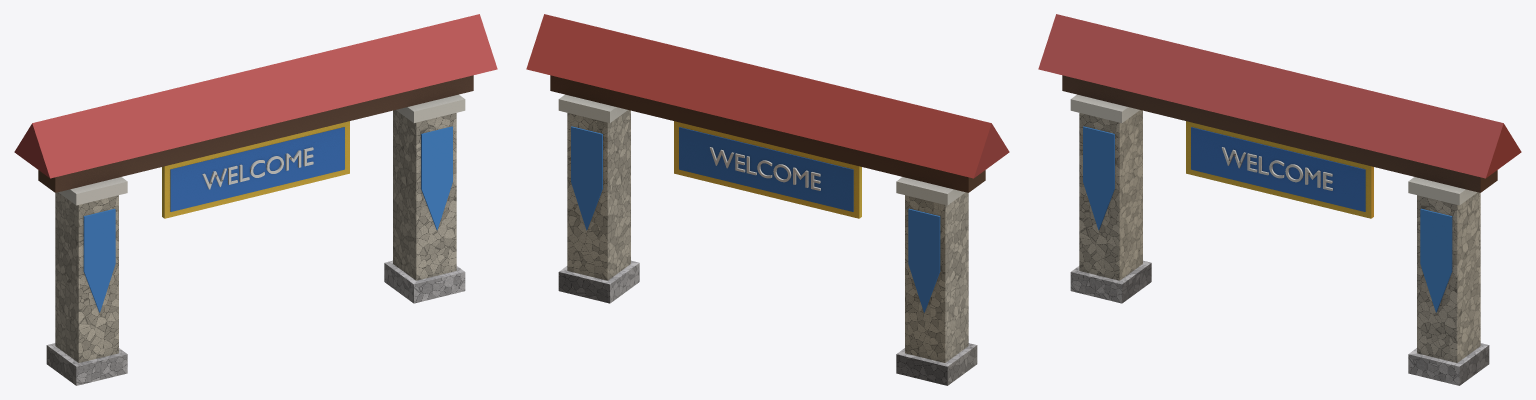
The model's file is hub_gate_welcome.fbx.
3 views of the same model, side by side, from view 1: azimuth 30°, elevation 25°; view 2: azimuth 150°, elevation 25°; view 3: azimuth 330°, elevation 25° (orthographic).
Visible parts, largest first — view 1: hub_gate_welcome_body; view 2: hub_gate_welcome_body; view 3: hub_gate_welcome_body.
Boxes of the visible parts, left/top/right/bottom form: hub_gate_welcome_body: left=14, top=14, right=497, bottom=385; hub_gate_welcome_body: left=526, top=14, right=1009, bottom=385; hub_gate_welcome_body: left=1038, top=14, right=1521, bottom=385.
Bounding box in the file's own units: 2440 × 1350 × 340.
Materials: 2 (1 with a texture image).
